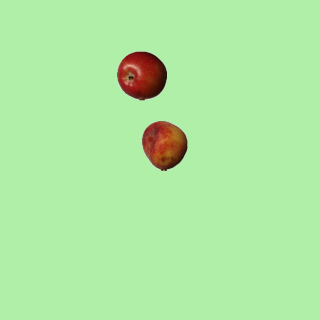Apple Braeburn: (116, 50, 166, 100)
Peach: (139, 120, 189, 170)
